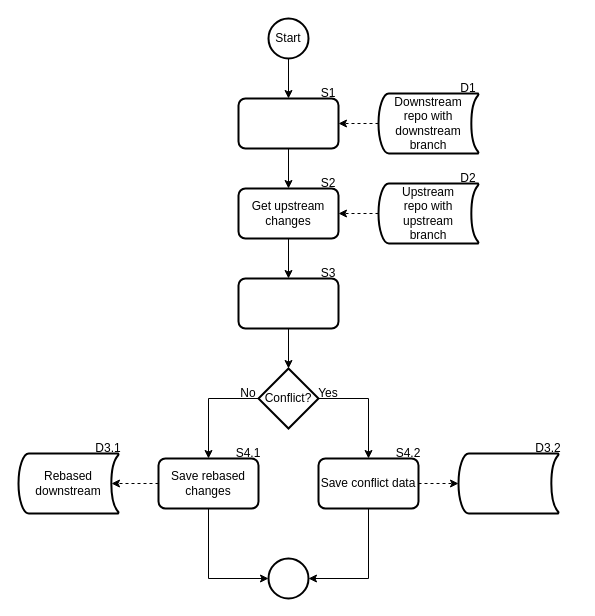
Some shapes in this 595 by 616 pixel diagram are drawn without their labels. The centre of each missing label's shape, as x and y in pixels:
"Conflict data" goes at pixel 508 483.
"Get downstream changes" goes at pixel 288 123.
"Stop" goes at pixel 288 578.
"Try to rebase" goes at pixel 288 303.
